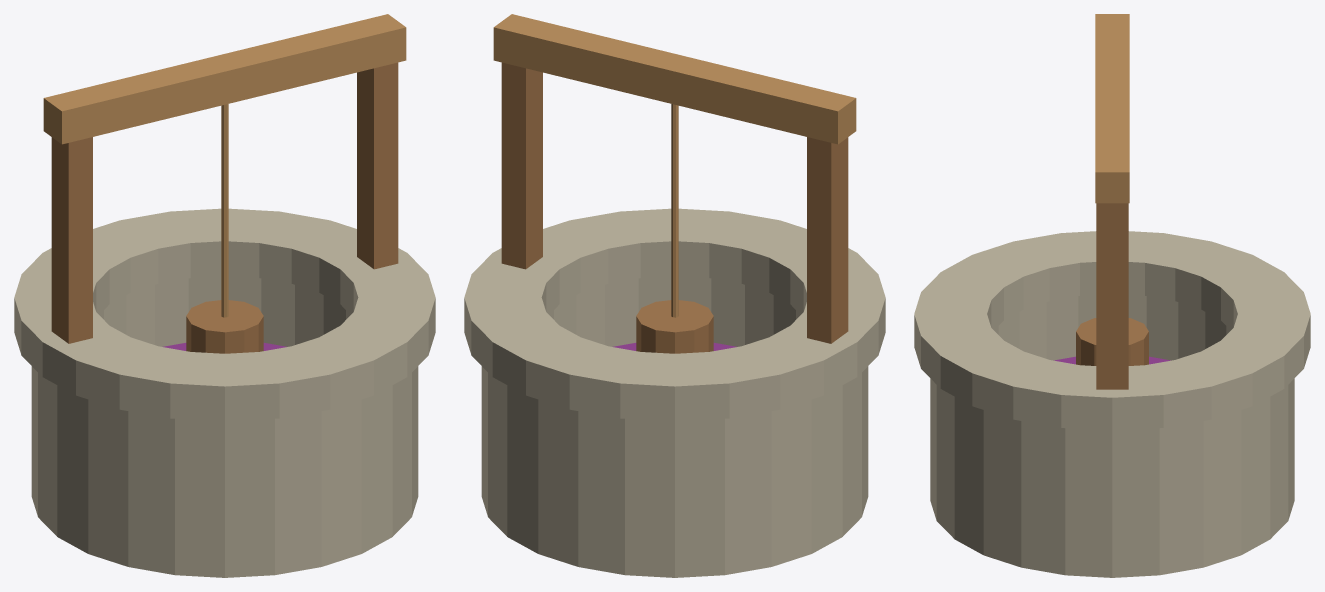
File: stone_well.glb
3 views of the same model, side by side, from view 1: azimuth 30°, elevation 25°; view 2: azimuth 150°, elevation 25°; view 3: azimuth 270°, elevation 25° (orthographic). The views are drawn at different scales.
Visible parts, largest first — view 1: Well stone wall, Well coping, Well crossbar, Well timber post, Well timber post.001, Well bucket, Well rope; view 2: Well stone wall, Well coping, Well crossbar, Well timber post, Well timber post.001, Well bucket, Well rope; view 3: Well stone wall, Well coping, Well crossbar, Well timber post.001, Well bucket.
Boxes of the visible parts, left/top/right/bottom form: Well stone wall: left=31, top=276, right=418, bottom=577; Well coping: left=14, top=208, right=435, bottom=421; Well crossbar: left=43, top=14, right=406, bottom=144; Well timber post: left=51, top=137, right=92, bottom=343; Well timber post.001: left=357, top=62, right=398, bottom=269; Well bucket: left=186, top=300, right=263, bottom=353; Well rope: left=221, top=104, right=228, bottom=317; Well stone wall: left=481, top=276, right=868, bottom=577; Well coping: left=464, top=208, right=885, bottom=421; Well crossbar: left=493, top=14, right=856, bottom=144; Well timber post: left=807, top=137, right=848, bottom=343; Well timber post.001: left=501, top=62, right=542, bottom=269; Well bucket: left=636, top=300, right=713, bottom=353; Well rope: left=671, top=104, right=678, bottom=317; Well stone wall: left=930, top=295, right=1294, bottom=577; Well coping: left=914, top=231, right=1310, bottom=430; Well crossbar: left=1095, top=14, right=1129, bottom=203; Well timber post.001: left=1096, top=203, right=1128, bottom=389; Well bucket: left=1076, top=318, right=1148, bottom=365.
Size of the model in its own units: 1.96 by 2.23 by 1.96.
